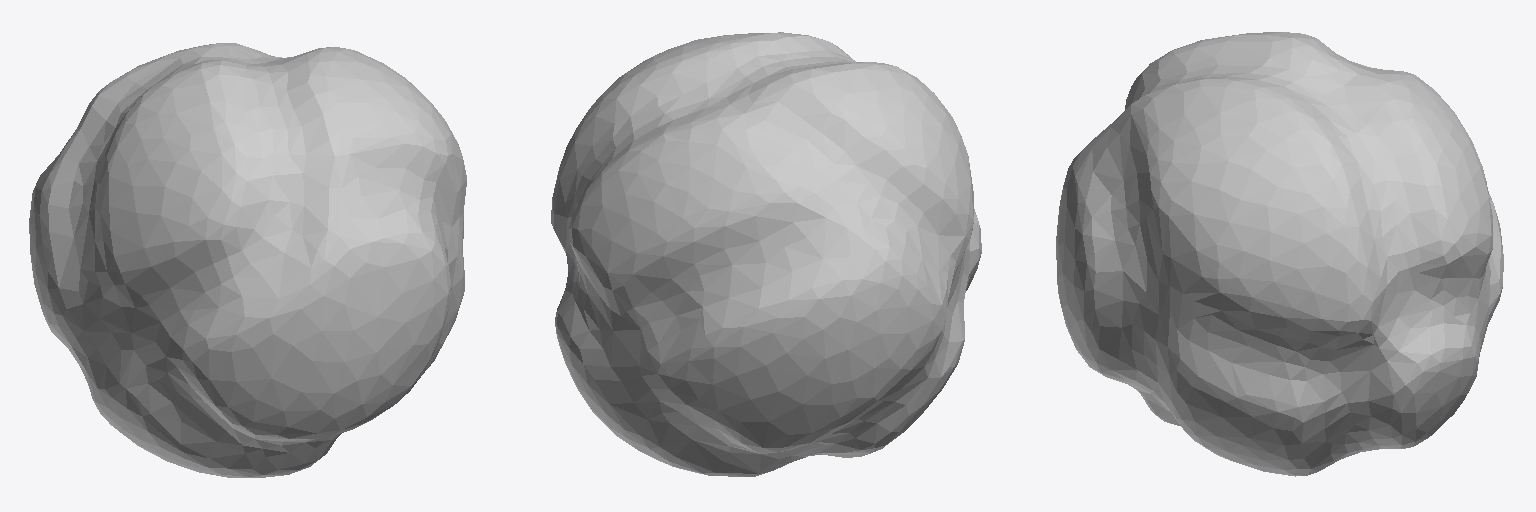
File: planet_land.obj
3 renders of one model, left to right at view 1: azimuth 30°, elevation 25°; view 2: azimuth 150°, elevation 25°; view 3: azimuth 270°, elevation 25°, orthographic.
Size of the model in its own units: 279 by 278 by 290.